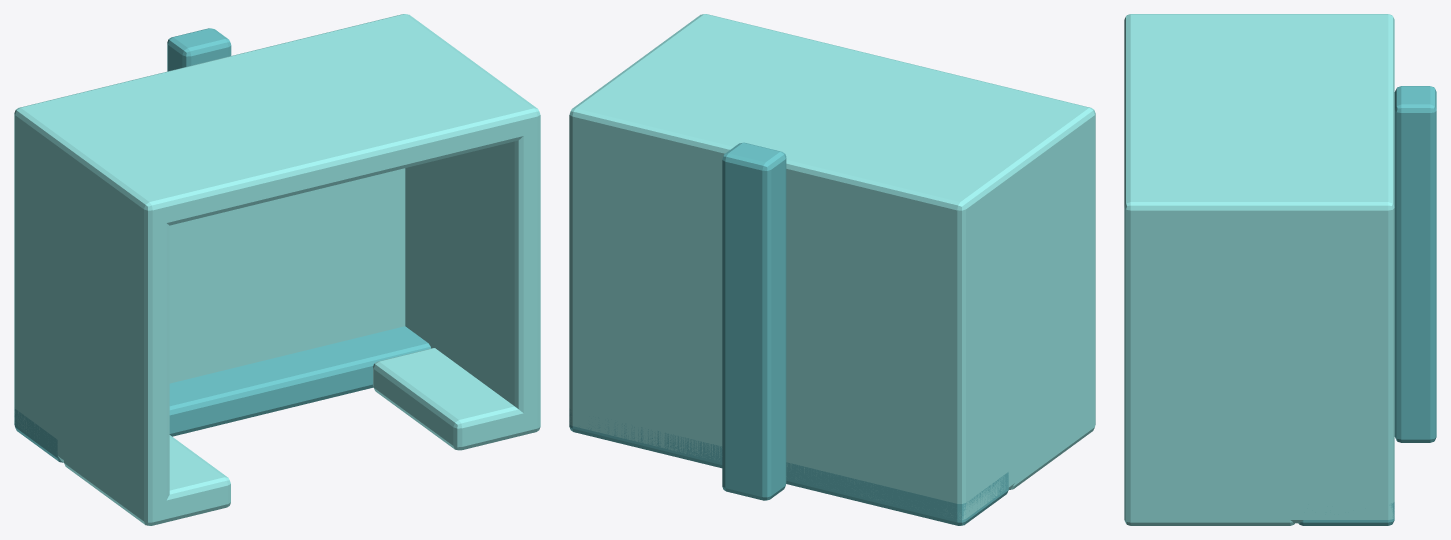
The model's file is diamond_helmet_held.gltf.
The picture shows the model from 3 angles, left to right: view 1: azimuth 30°, elevation 25°; view 2: azimuth 150°, elevation 25°; view 3: azimuth 270°, elevation 25°; orthographic projection.
Visible parts, largest first — view 1: armor_diamond_helmet_held; view 2: armor_diamond_helmet_held; view 3: armor_diamond_helmet_held.
Part boxes in pixels (box(x1,y1,x2,y2)): armor_diamond_helmet_held: box(14, 14, 540, 525); armor_diamond_helmet_held: box(569, 14, 1095, 525); armor_diamond_helmet_held: box(1124, 14, 1436, 525).
Size of the model in its own units: 0.13 by 0.1061 by 0.0889.
